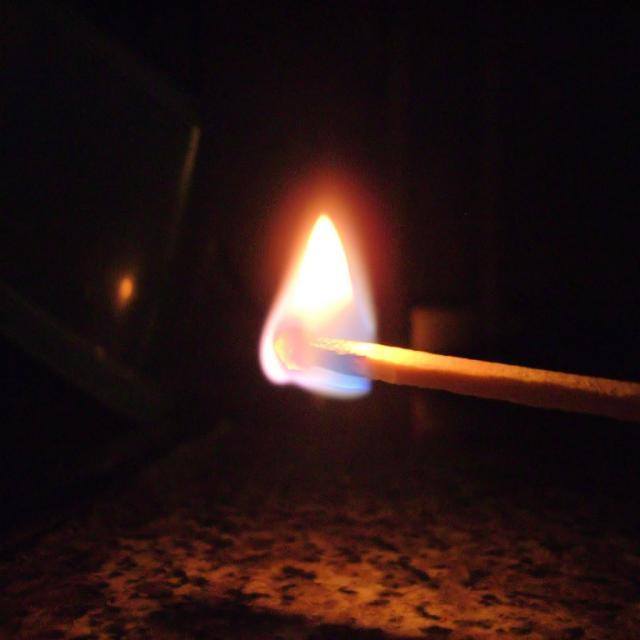Fire: (299, 250, 345, 337)
